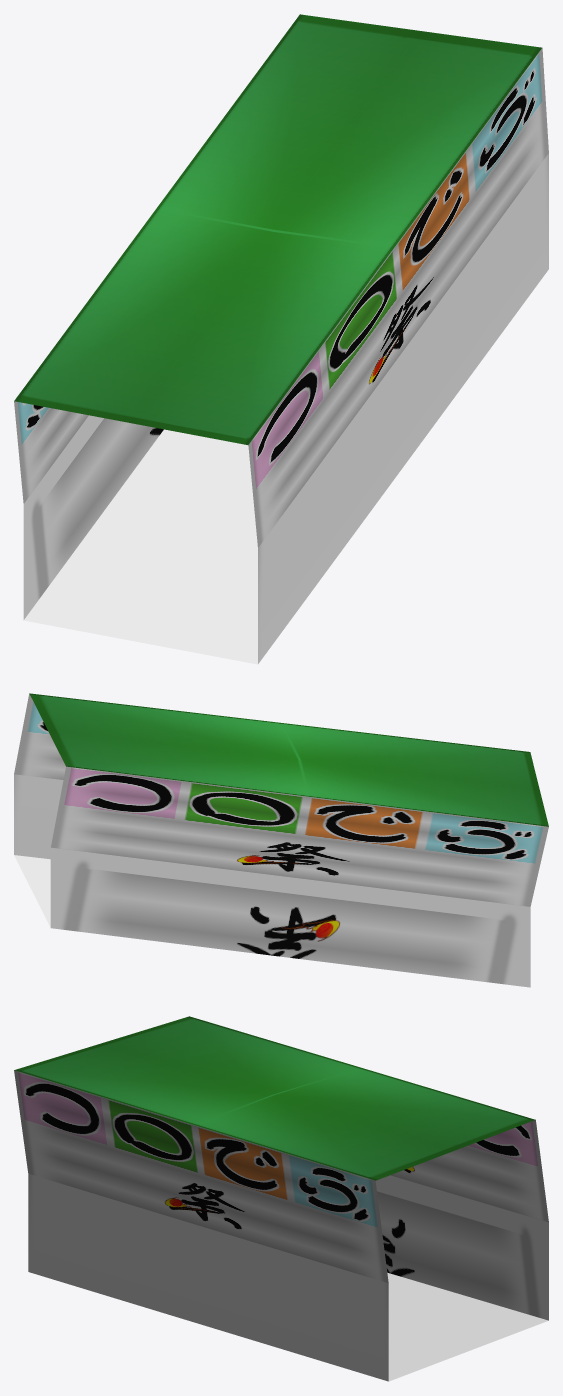
File: CourseAki_Wall_L_6_25.fbx
3 views of the same model, one above another, from view 1: azimuth 30°, elevation 25°; view 2: azimuth 150°, elevation 25°; view 3: azimuth 270°, elevation 25° (orthographic). The views are drawn at different scales.
Visible parts, largest first — view 1: polySurface399; view 2: polySurface399; view 3: polySurface399.
Part boxes in pixels (left/top/right/bottom): polySurface399: left=14, top=14, right=548, bottom=664; polySurface399: left=14, top=693, right=548, bottom=987; polySurface399: left=14, top=1016, right=548, bottom=1381.
Bounding box in the file's own units: 5.88 × 2.98 × 4.93.
1 material, 1 textured.
